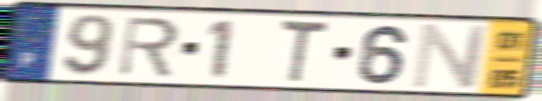1: (204, 19, 236, 81)
6: (356, 22, 410, 87)
9: (59, 12, 116, 79)
N: (409, 22, 492, 90)
R: (115, 15, 182, 79)
T: (276, 17, 331, 87)
